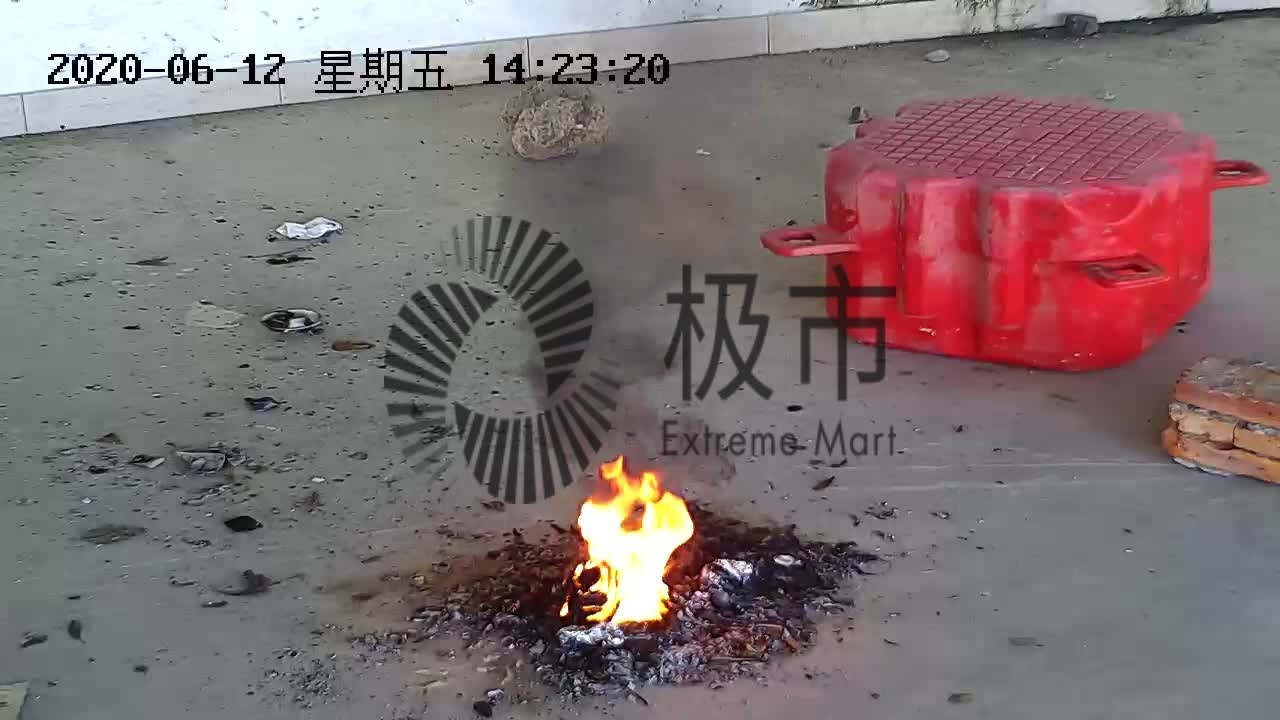fire: (560, 452, 699, 634)
